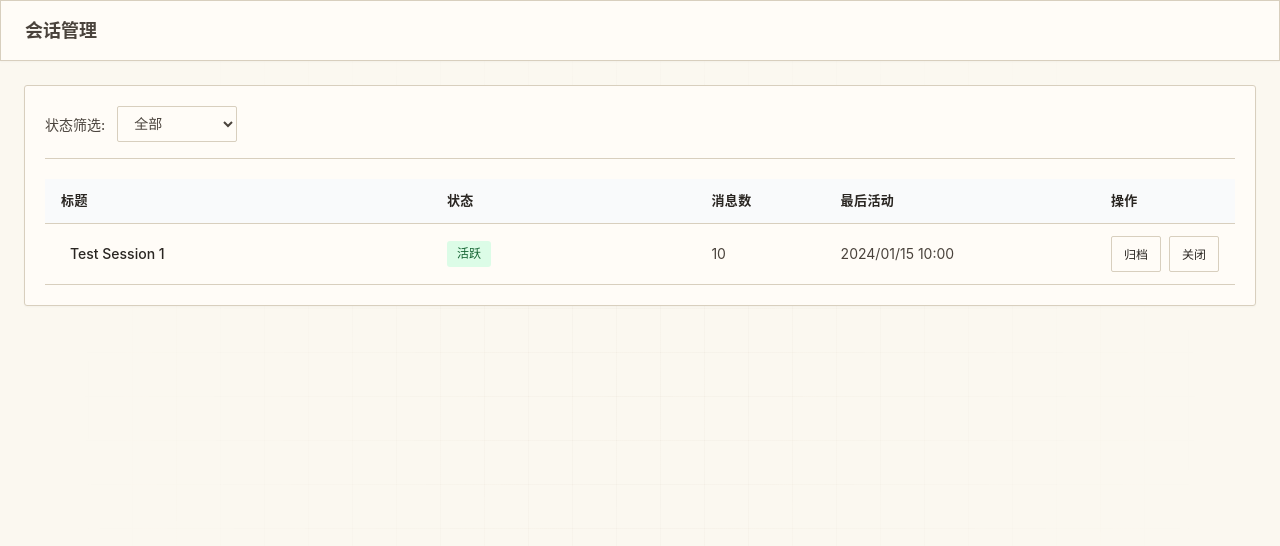
Test: SessionsTab › cancels edit on Escape key
Expected: the row with test id "session-row-session-1" is shown, [45,223,1235,284]
Click the text with class "session-title": x=117, y=254 [70,245,165,262]
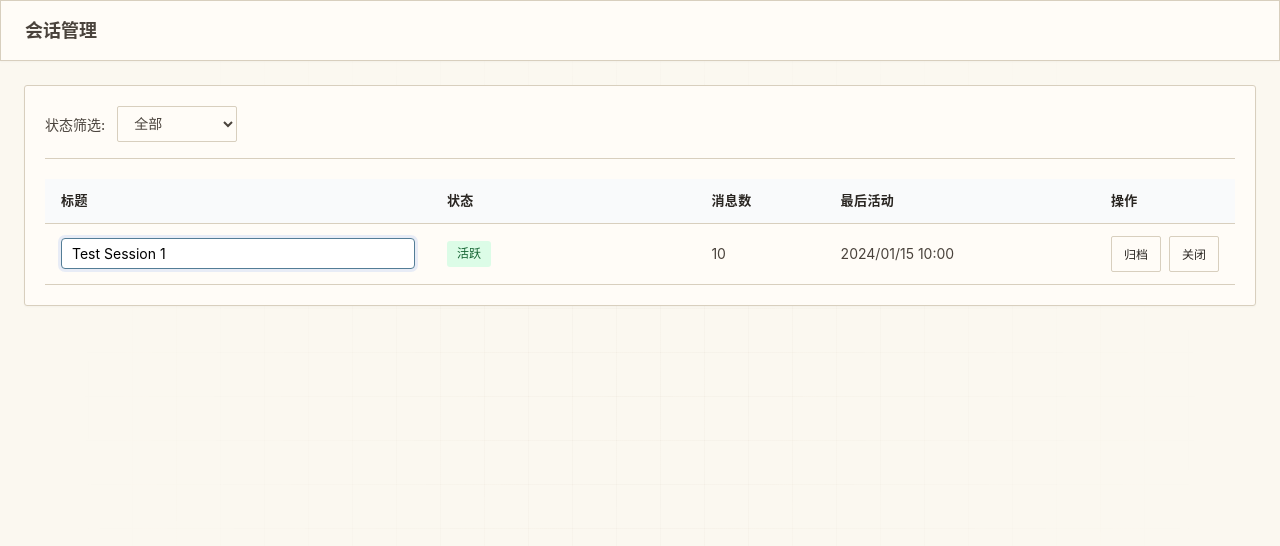
Press Escape in the field with class "title-input", box [61,238,415,269]
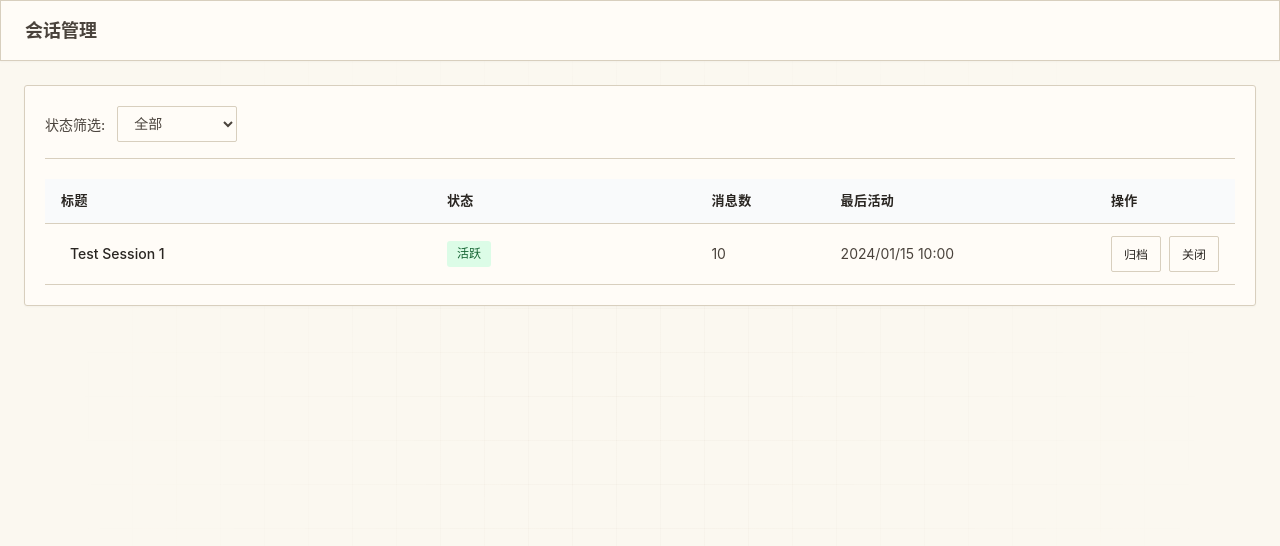
Expected: the text "Test Session 1" is shown, [70,245,165,262]
